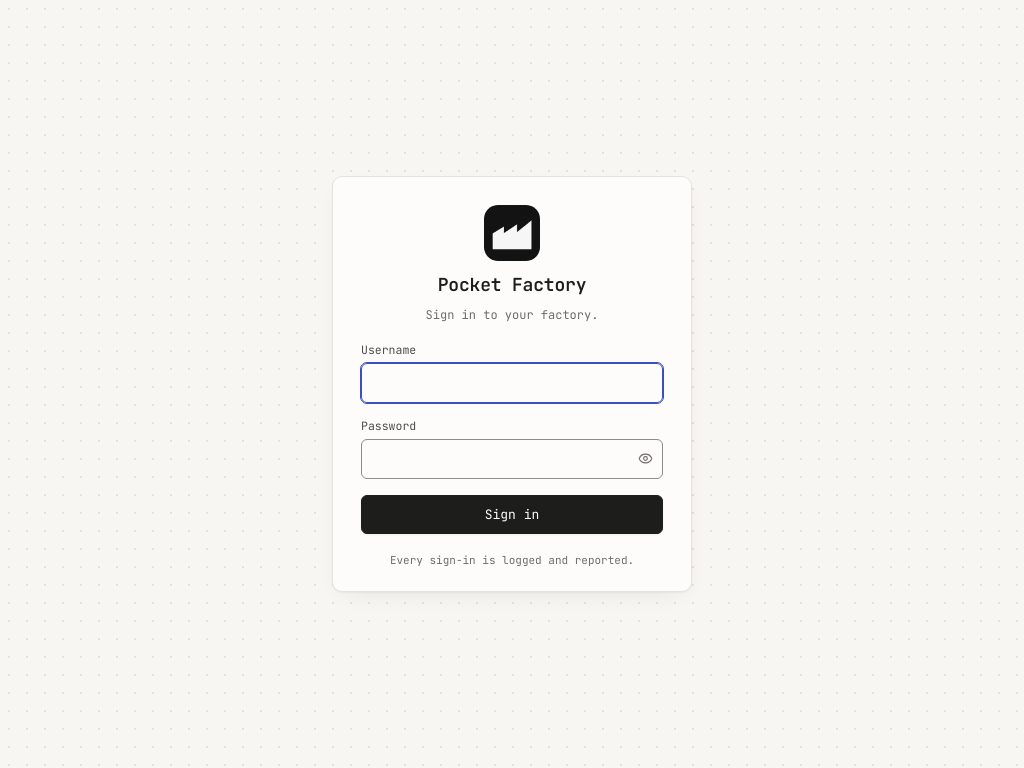
Test: AuthProvider › says a password was wrong and how many tries are left
Expected: the button "Sign in" is shown, top-left (361, 495), bottom-right (663, 534)
Step 1. Type "owner" into the field labelled "Username" → (512,383), box top-left (361, 363), bottom-right (663, 403)
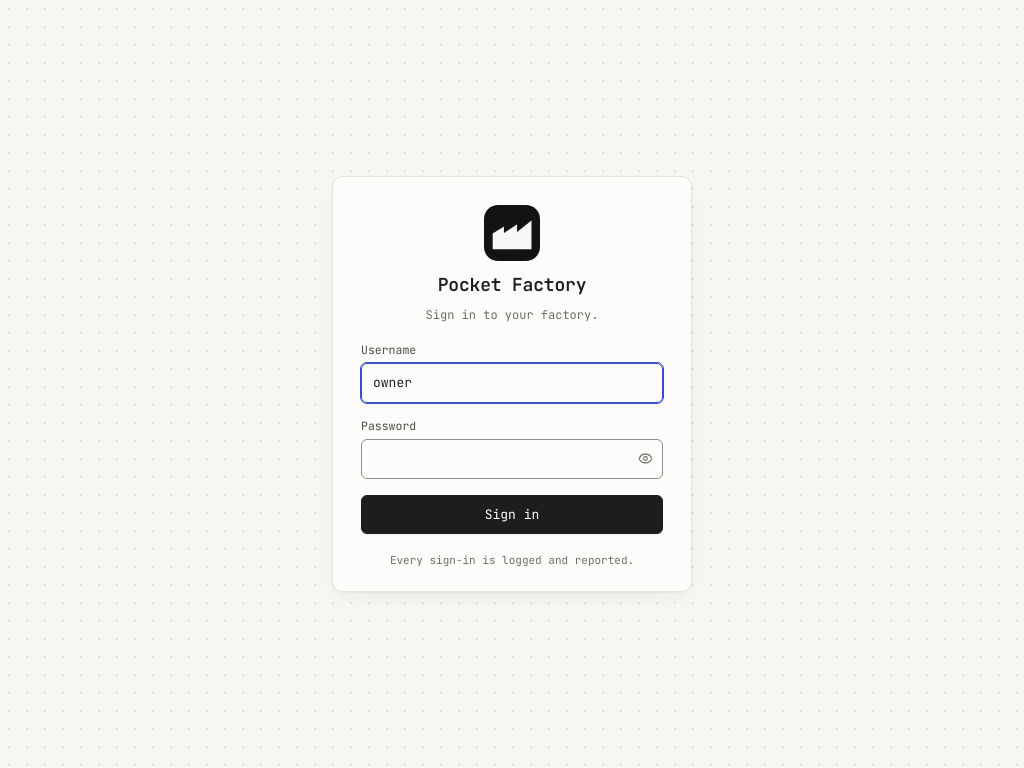
Step 2. Type "guess" into the password field labelled "Password" → (512,459), box top-left (361, 439), bottom-right (663, 479)
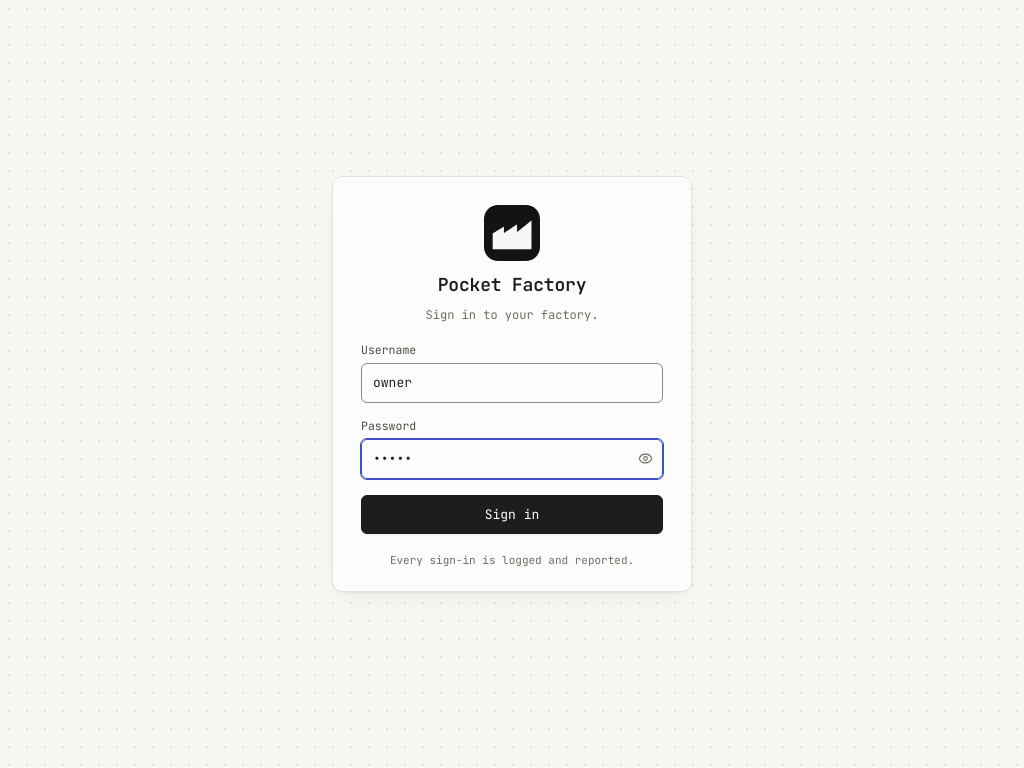
Step 3. Click the button "Sign in" → (512,515), box top-left (361, 495), bottom-right (663, 534)
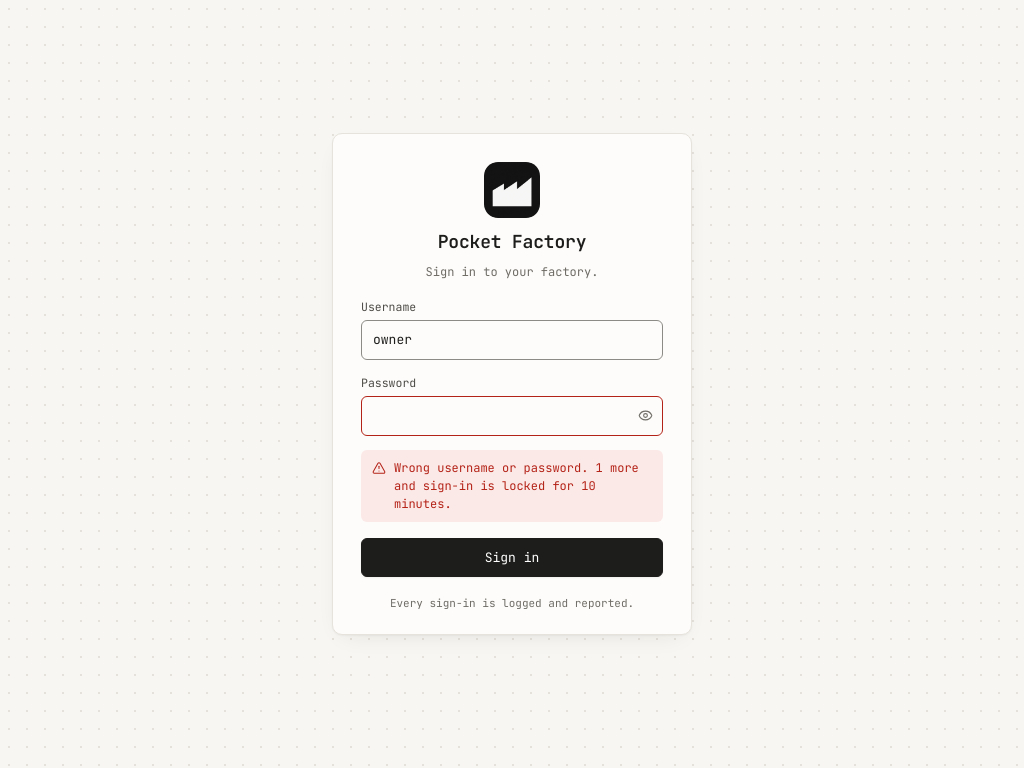
Expected: the message reads "Wrong username or password. 1 more and sign-in is locked for 10 minutes.", top-left (361, 450), bottom-right (663, 522)
Expected: the password field labelled "Password" is empty, top-left (361, 396), bottom-right (663, 436)
